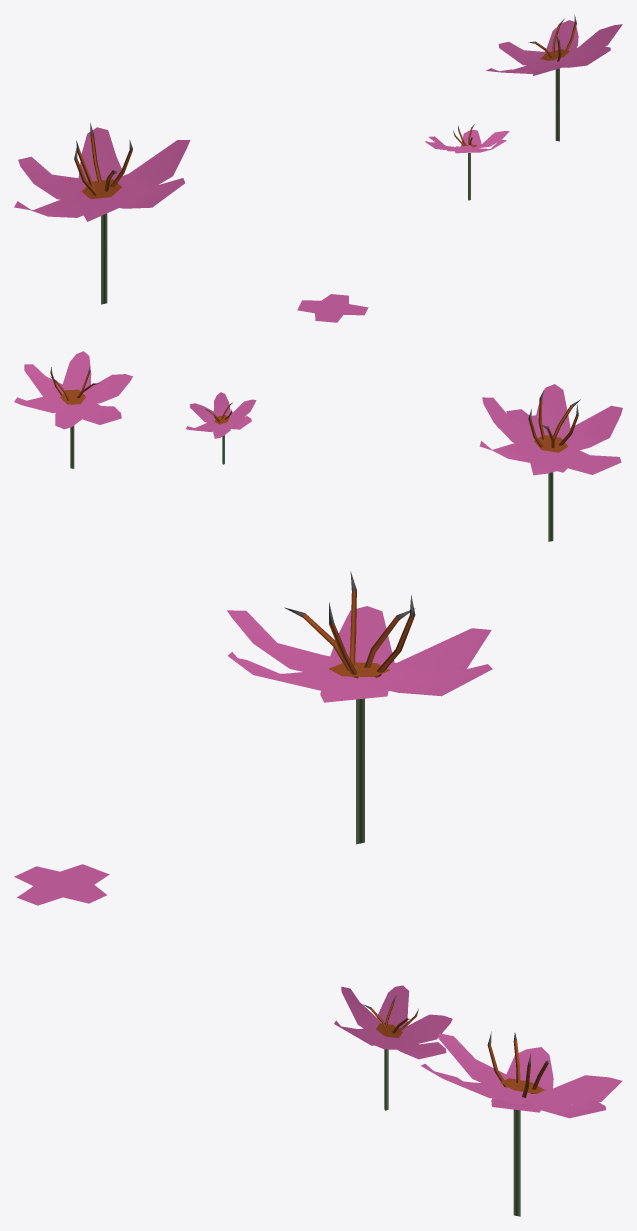
File: P_alpros_02_LD.fbx
3 views of the same model, one above another, from view 1: azimuth 30°, elevation 25°; view 2: azimuth 150°, elevation 25°; view 3: azimuth 270°, elevation 25° (orthographic). The views are drawn at different scales.
Parts seen in each view (by area): view 1: P_alpros_02; view 2: P_alpros_02; view 3: P_alpros_02.
Boxes of the visible parts, x1,y1,x2,y2 form: P_alpros_02: (14, 15, 622, 322); P_alpros_02: (14, 351, 622, 541); P_alpros_02: (14, 571, 622, 1216).
Bounding box in the file's own units: 122 × 29.79 × 65.08.
